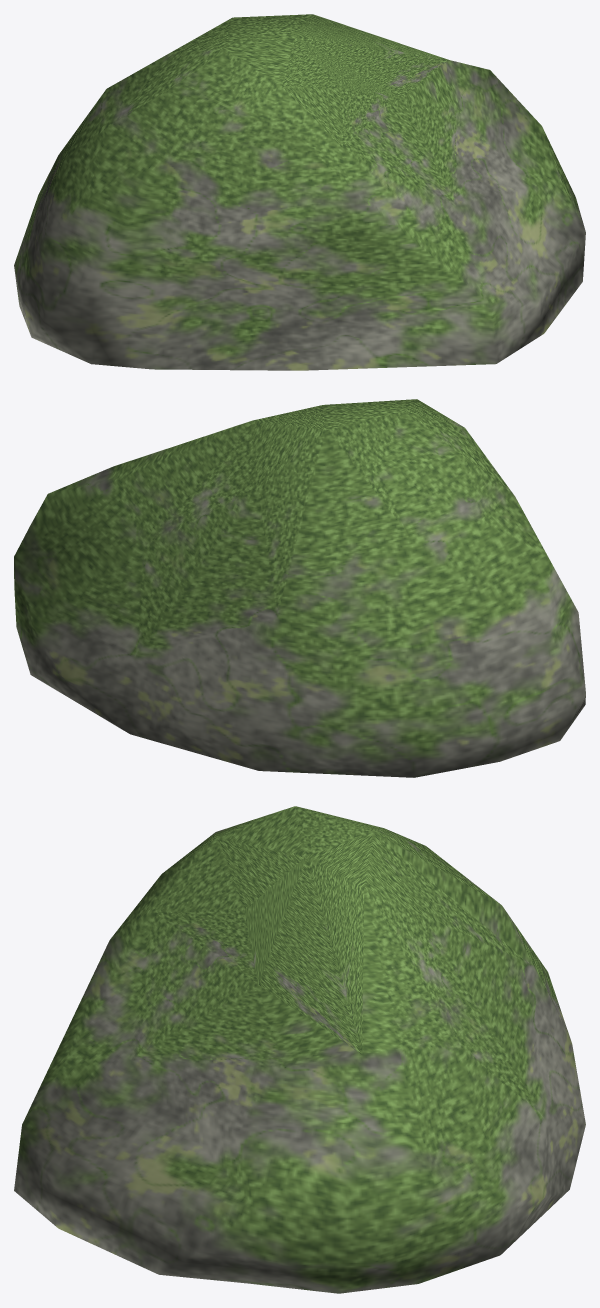
The model's file is rock_grassland_boulder_a_lod2.glb.
3 renders of one model, top to bottom at view 1: azimuth 30°, elevation 25°; view 2: azimuth 150°, elevation 25°; view 3: azimuth 270°, elevation 25°, orthographic. The views are drawn at different scales.
Parts seen in each view (by area): view 1: rock_grassland_boulder_a; view 2: rock_grassland_boulder_a; view 3: rock_grassland_boulder_a.
Boxes of the visible parts, left/top/right/bottom form: rock_grassland_boulder_a: left=14, top=14, right=585, bottom=370; rock_grassland_boulder_a: left=14, top=399, right=585, bottom=777; rock_grassland_boulder_a: left=14, top=806, right=585, bottom=1293.
Size of the model in its own units: 2.11 by 1.01 by 1.74.
Materials: 1 (1 with a texture image).
